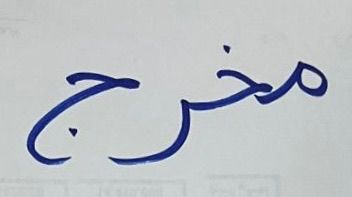character: (20, 63, 146, 173), (106, 97, 195, 168), (198, 38, 274, 118), (276, 53, 337, 106)
